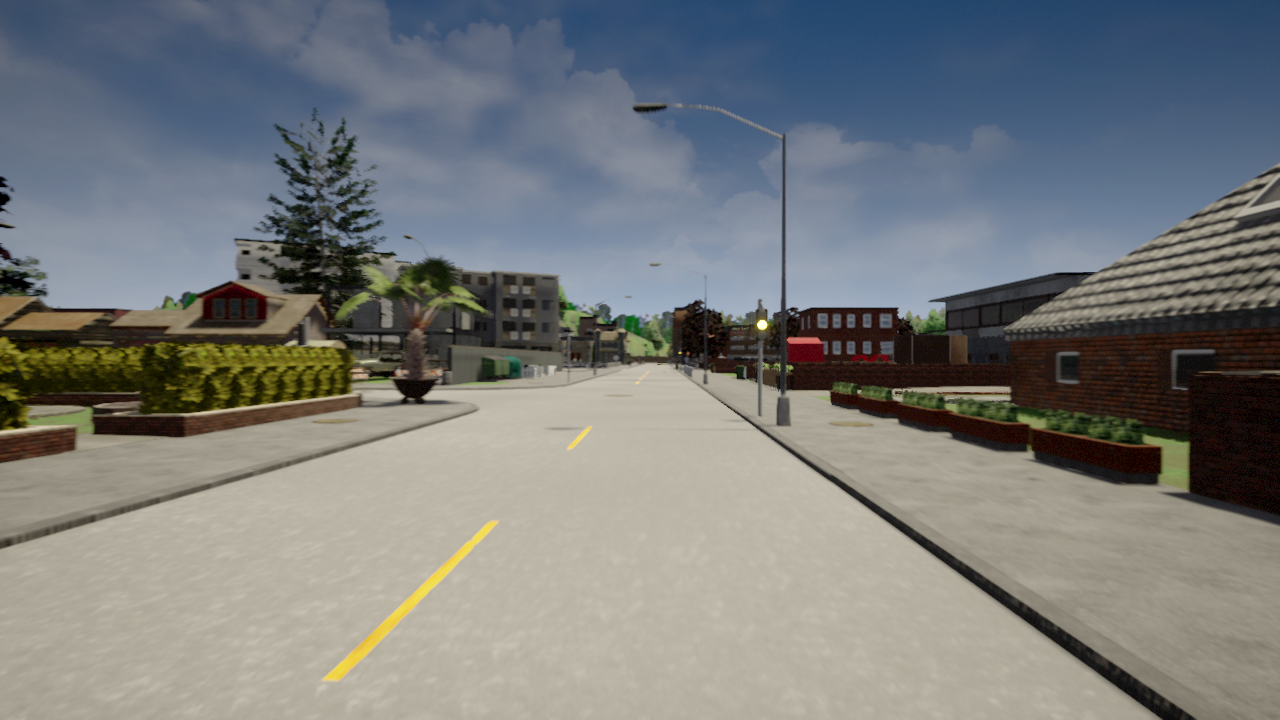yellow: (754, 307, 769, 342)
